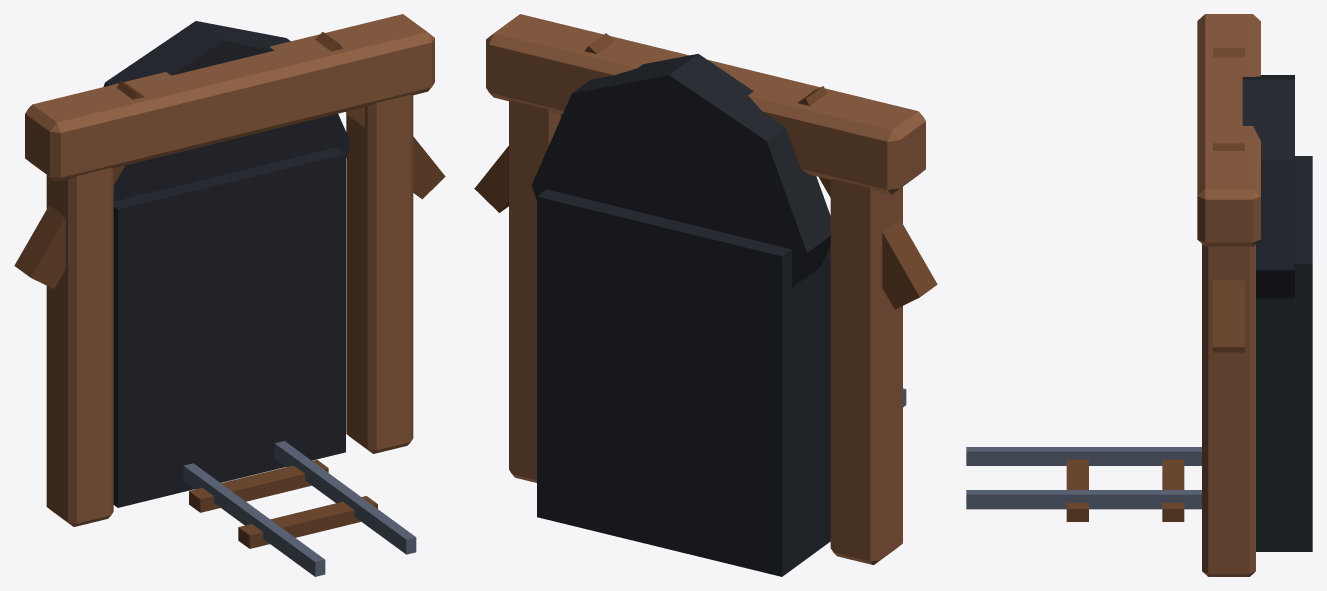
Rendered from SM_Mountain_MineEntrance.fbx.
The picture shows the model from 3 angles, left to right: view 1: azimuth 30°, elevation 25°; view 2: azimuth 150°, elevation 25°; view 3: azimuth 270°, elevation 25°; orthographic projection. The views are drawn at different scales.
Parts seen in each view (by area): view 1: SM_Mountain_MineEntrance; view 2: SM_Mountain_MineEntrance; view 3: SM_Mountain_MineEntrance.
Boxes of the visible parts, x1,y1,x2,y2 form: SM_Mountain_MineEntrance: (14, 14, 445, 576); SM_Mountain_MineEntrance: (474, 14, 937, 576); SM_Mountain_MineEntrance: (966, 14, 1312, 576).
Size of the model in its own units: 2.91 by 2.9 by 2.18.
